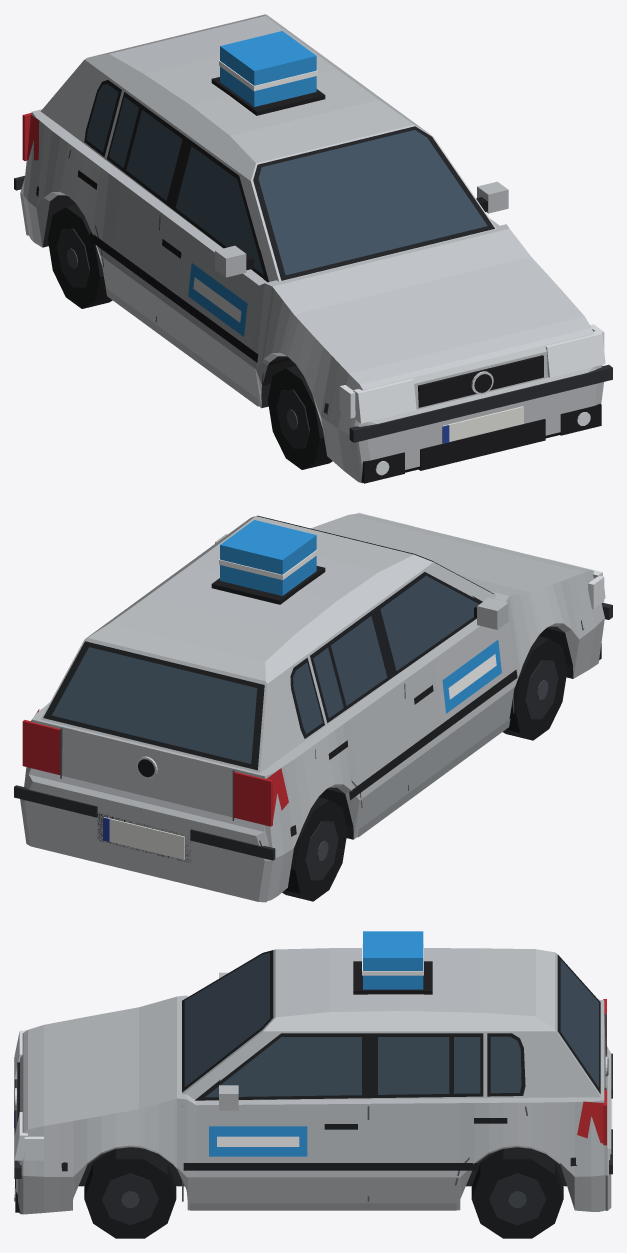
File: Arac_polo_6n2_kurye_Hafif.fbx
3 renders of one model, top to bottom at view 1: azimuth 30°, elevation 25°; view 2: azimuth 150°, elevation 25°; view 3: azimuth 270°, elevation 25°, orthographic. The views are drawn at different scales.
Visible parts, largest first — view 1: Arac_polo_6n2_kurye_Hafif; view 2: Arac_polo_6n2_kurye_Hafif; view 3: Arac_polo_6n2_kurye_Hafif.
Boxes of the visible parts, box(x1,y1,x2,y2) form: Arac_polo_6n2_kurye_Hafif: box(14, 14, 612, 483); Arac_polo_6n2_kurye_Hafif: box(14, 512, 612, 902); Arac_polo_6n2_kurye_Hafif: box(14, 931, 612, 1238).
Size of the model in its own units: 1.81 by 1.68 by 3.77.
